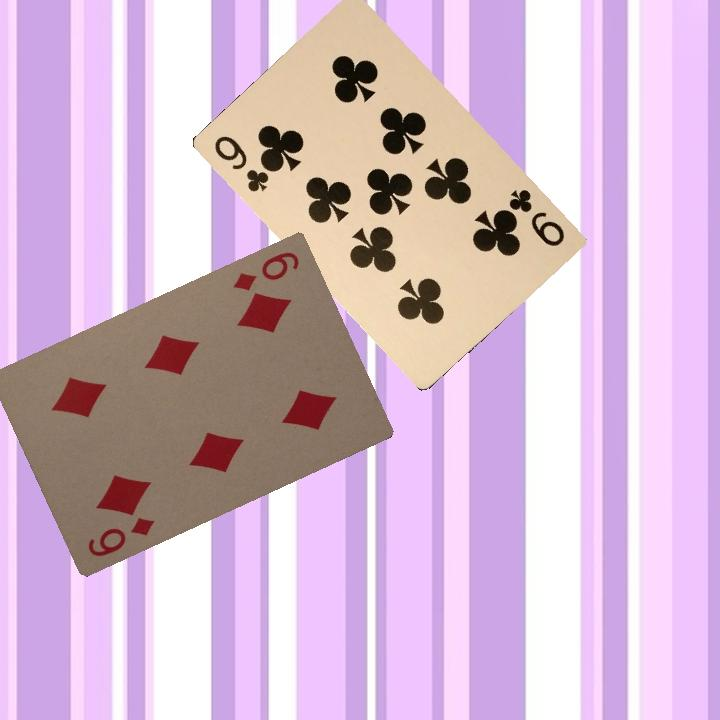6d: (83, 512, 157, 559), (228, 247, 302, 294)
9c: (504, 184, 568, 250), (210, 131, 274, 195)
